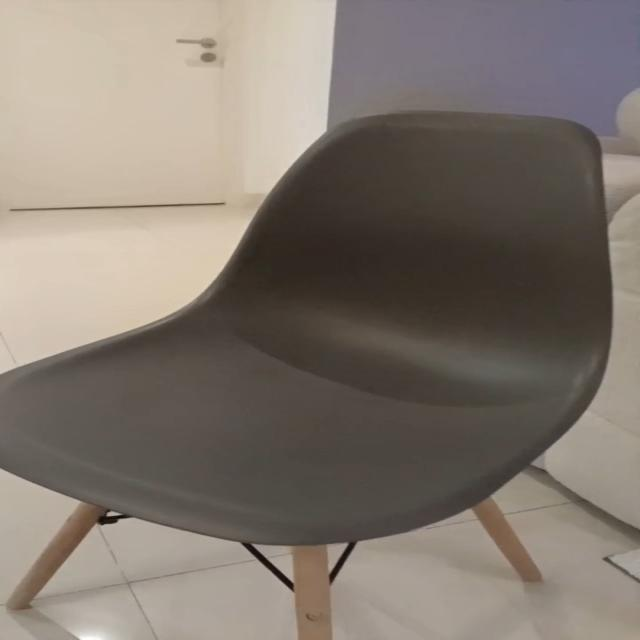sandalye: (0, 112, 612, 640)
